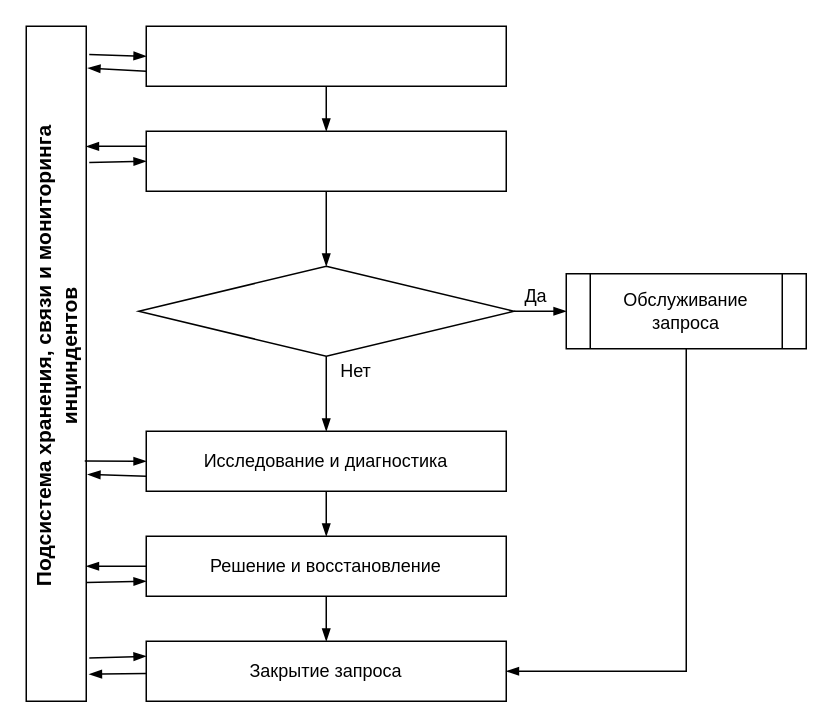
The diagram is 833 pixels wide and 728 high, and some of its shapes have lost their labels. Each missing label, with the centre of its shape:
"Запрос на рекомендацию" goes at pixel 325 310.
"Первоначальный классификатор" goes at pixel 325 160.
"Прием запроса" goes at pixel 325 55.
